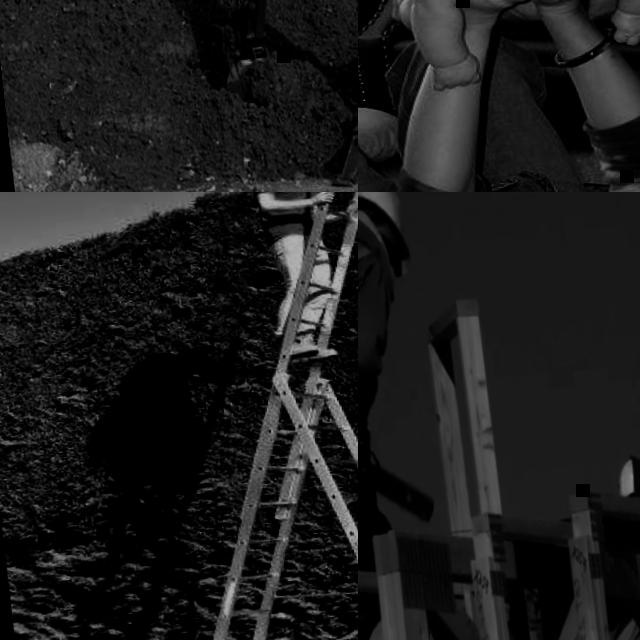Hardhat: (358, 192, 413, 282)
NO-Hardhat: (614, 451, 640, 499)
Person: (358, 0, 640, 192), (358, 192, 463, 640), (384, 0, 640, 92), (246, 192, 358, 361)
Safety Vest: (358, 222, 389, 418)
machinery: (197, 0, 358, 192)
